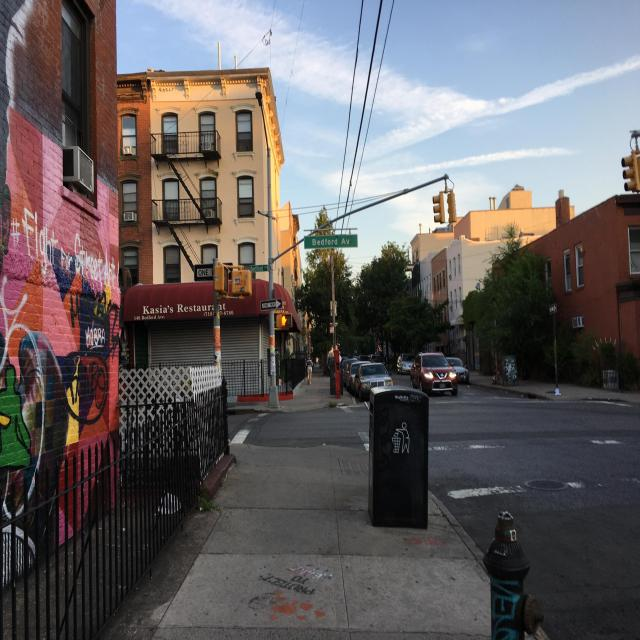Good: (526, 475, 570, 494)
